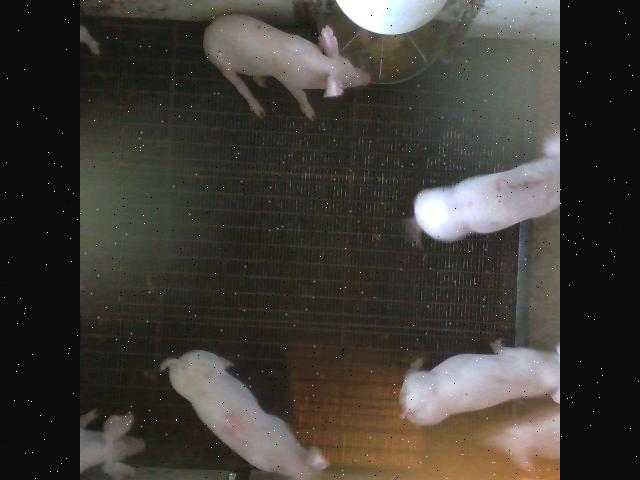pig-3: (405, 130, 558, 245)
pig-4: (160, 349, 328, 480)
